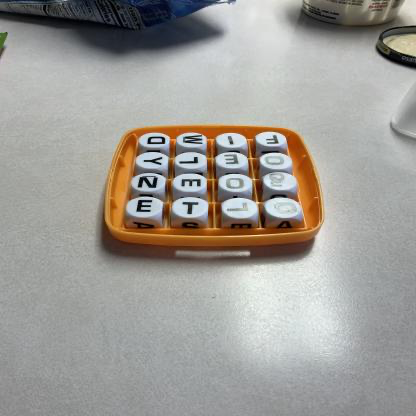d: (140, 134, 171, 149)
e: (128, 198, 163, 218), (174, 175, 207, 193), (217, 153, 249, 170)
f: (257, 133, 287, 147)
i: (217, 134, 247, 149)
l: (223, 199, 258, 220), (176, 153, 207, 170)
n: (133, 174, 166, 192)
o: (266, 199, 302, 219), (220, 175, 253, 193), (261, 154, 293, 170)
qu: (264, 173, 298, 191)
t: (174, 198, 209, 219)
w: (178, 134, 207, 148)
y: (137, 153, 168, 169)
